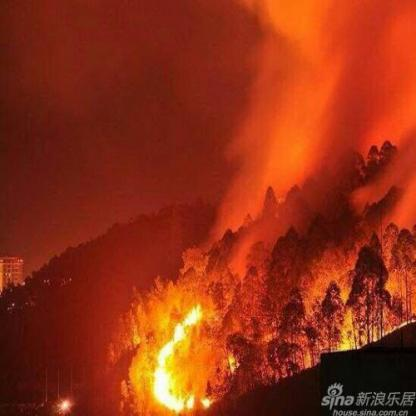fire: (129, 290, 237, 410), (291, 296, 396, 346)
